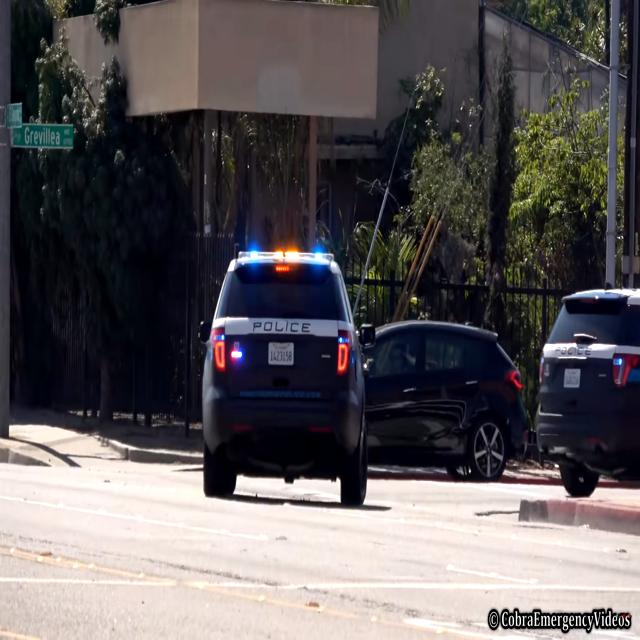emergency-vehicles: (176, 240, 388, 533)
